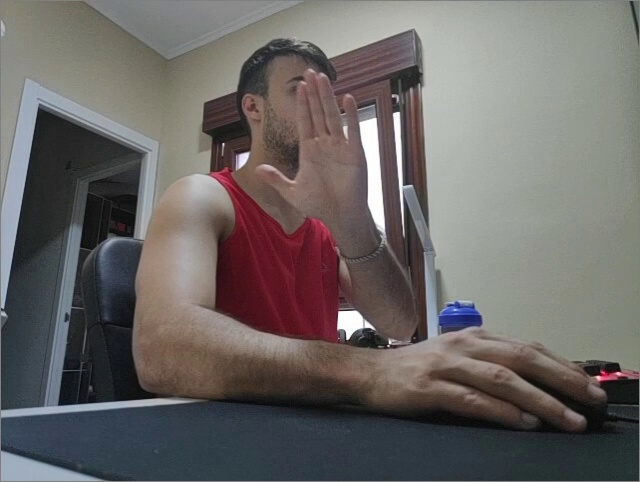Palm: (253, 69, 375, 250)
